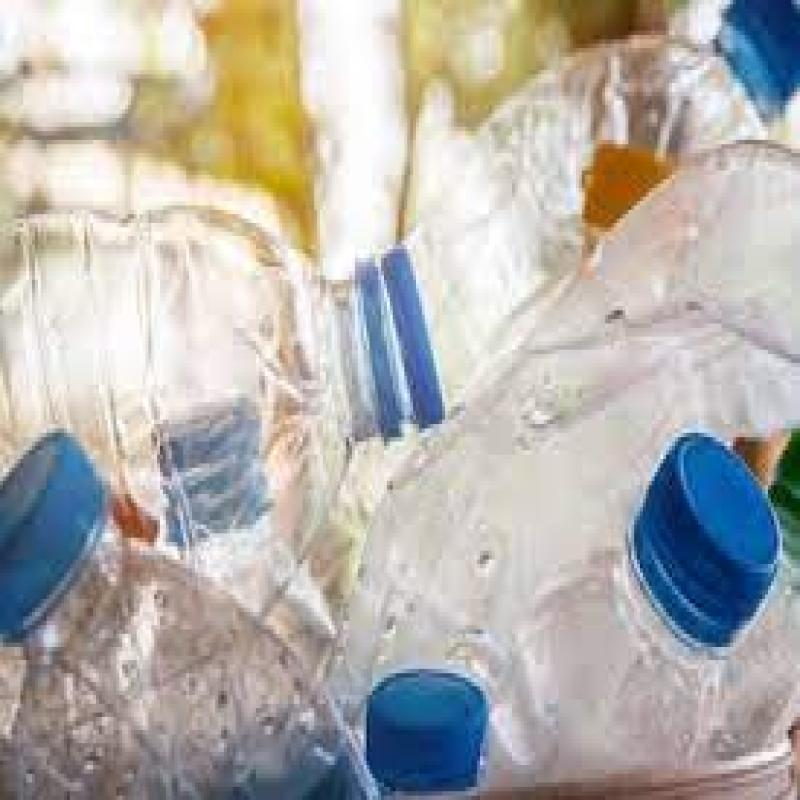botella: (0, 189, 444, 621), (404, 0, 800, 381), (0, 424, 369, 800), (492, 412, 800, 800)
